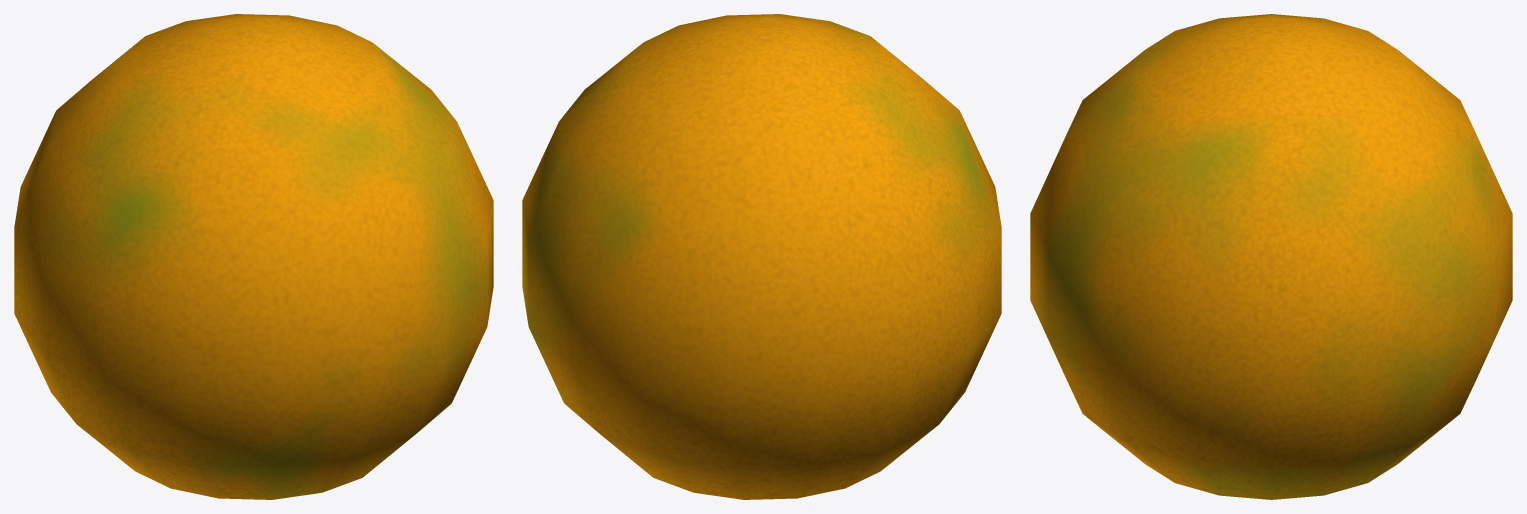
Rendered from orange-new.glb.
The picture shows the model from 3 angles, left to right: view 1: azimuth 30°, elevation 25°; view 2: azimuth 150°, elevation 25°; view 3: azimuth 270°, elevation 25°; orthographic projection.
Visible parts, largest first — view 1: orange; view 2: orange; view 3: orange.
Boxes of the visible parts, <box> form: orange: <box>14,14,493,499</box>; orange: <box>522,14,1001,499</box>; orange: <box>1030,14,1512,499</box>.
Size of the model in its own units: 0.438 by 0.4466 by 0.438.
1 material, 1 textured.
